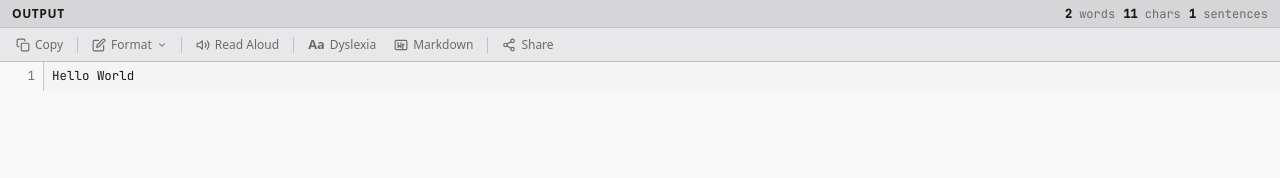
OutputPanel › shows format toolbar when format button is clicked in editable mode
// Click the format toolbar toggle ("Formatting options" title)
Click the button titled "Formatting options". click: [129, 44]
box: [84,32,175,57]
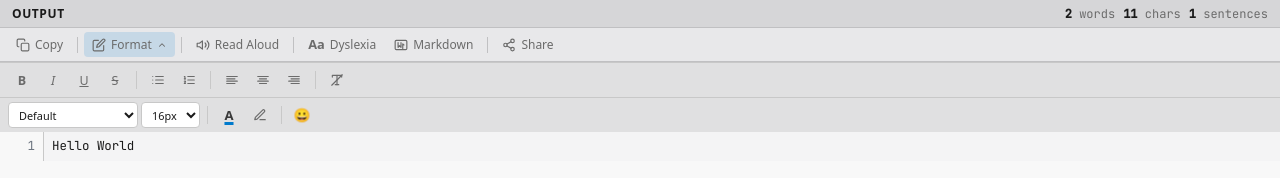
Expected: the button titled "Bold (Ctrl+B)" is shown, [8,67,36,93]
